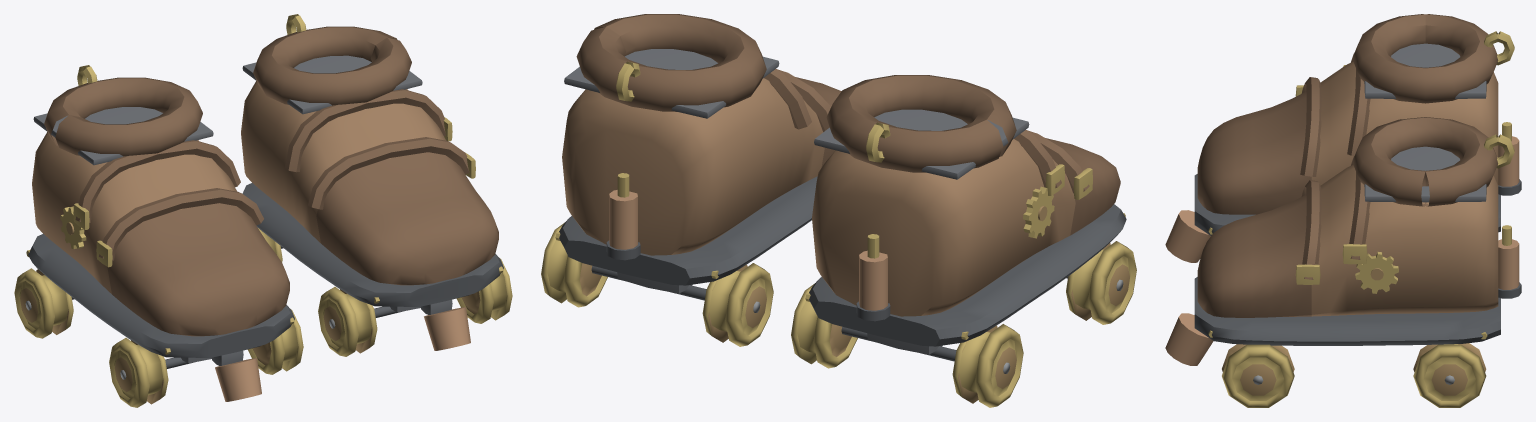
Rendered from skates.glb.
3 renders of one model, left to right at view 1: azimuth 30°, elevation 25°; view 2: azimuth 150°, elevation 25°; view 3: azimuth 270°, elevation 25°, orthographic. The views are drawn at different scales.
Visible parts, largest first — view 1: boot_r, boot_l, wheel_l_fr, wheel_r_fr, wheel_r_rr, wheel_l_fl, wheel_r_fl; view 2: boot_r, boot_l, wheel_r_rr, wheel_l_rr, wheel_r_fr, wheel_l_rl, wheel_r_rl; view 3: boot_l, boot_r, wheel_l_rl, wheel_l_fl.
Part boxes in pixels (left/top/right/bottom): boot_r: left=26, top=65, right=294, bottom=401; boot_l: left=241, top=14, right=503, bottom=350; wheel_l_fr: left=318, top=287, right=377, bottom=356; wheel_r_fr: left=109, top=337, right=168, bottom=407; wheel_r_rr: left=14, top=268, right=73, bottom=338; wheel_l_fl: left=456, top=258, right=512, bottom=323; wheel_r_fl: left=247, top=309, right=303, bottom=374; boot_r: left=805, top=75, right=1126, bottom=361; boot_l: left=555, top=14, right=841, bottom=300; wheel_r_rr: left=952, top=324, right=1023, bottom=407; wheel_l_rr: left=702, top=263, right=773, bottom=346; wheel_r_fr: left=1066, top=241, right=1136, bottom=324; wheel_l_rl: left=541, top=222, right=607, bottom=307; wheel_r_rl: left=791, top=283, right=857, bottom=368; boot_l: left=1165, top=117, right=1521, bottom=365; boot_r: left=1165, top=14, right=1521, bottom=262; wheel_l_rl: left=1413, top=343, right=1486, bottom=407; wheel_l_fl: left=1222, top=344, right=1294, bottom=407.
Size of the model in its own units: 0.601 by 0.3553 by 0.4875.
